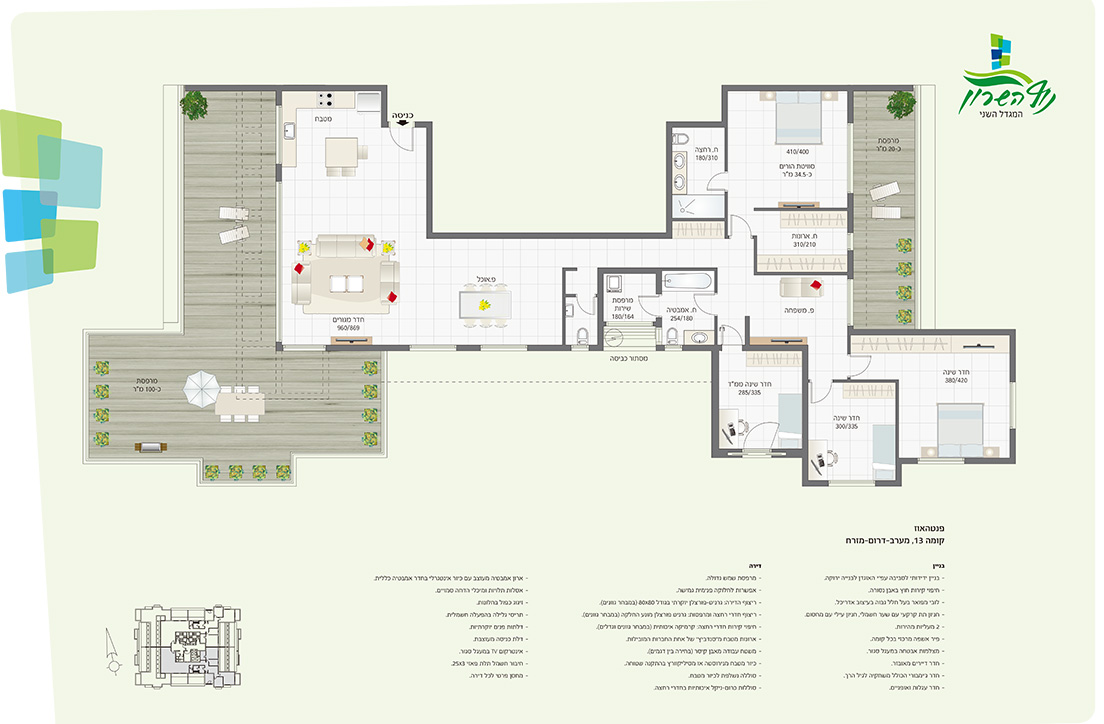door: (386, 126, 420, 155), (633, 292, 656, 317), (689, 290, 712, 315), (719, 319, 742, 344), (728, 209, 751, 234), (702, 168, 725, 193), (852, 352, 875, 377), (809, 382, 832, 407), (574, 297, 597, 319)
wall: (426, 233, 673, 239), (722, 85, 914, 92), (853, 328, 1015, 335), (711, 351, 719, 457), (666, 122, 673, 238), (742, 346, 807, 352), (965, 458, 1015, 463)
